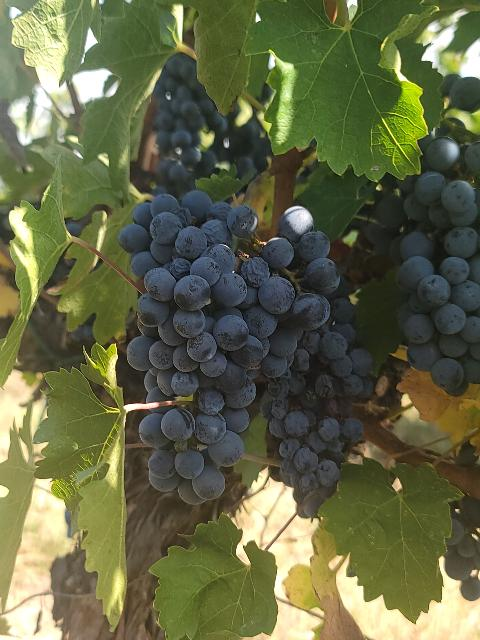grapes: (119, 190, 340, 504), (269, 298, 374, 518), (395, 136, 480, 396)
